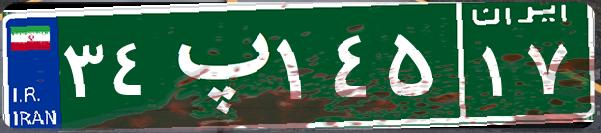1: (273, 28, 330, 110), (475, 38, 525, 113)
3: (57, 26, 110, 107)
4: (330, 28, 385, 110), (110, 28, 158, 105)
5: (385, 28, 445, 110)
7: (525, 38, 570, 115)
پ: (158, 15, 273, 115)
